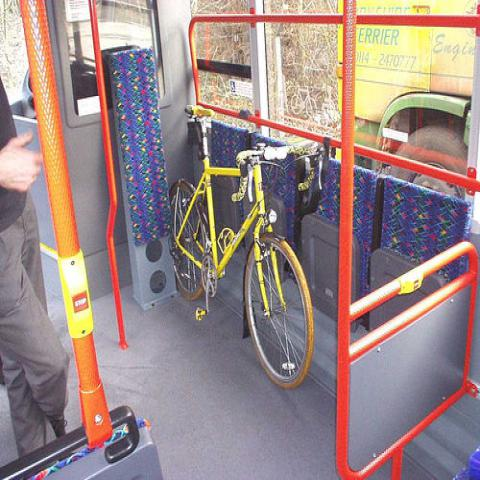truck: (337, 3, 479, 198)
